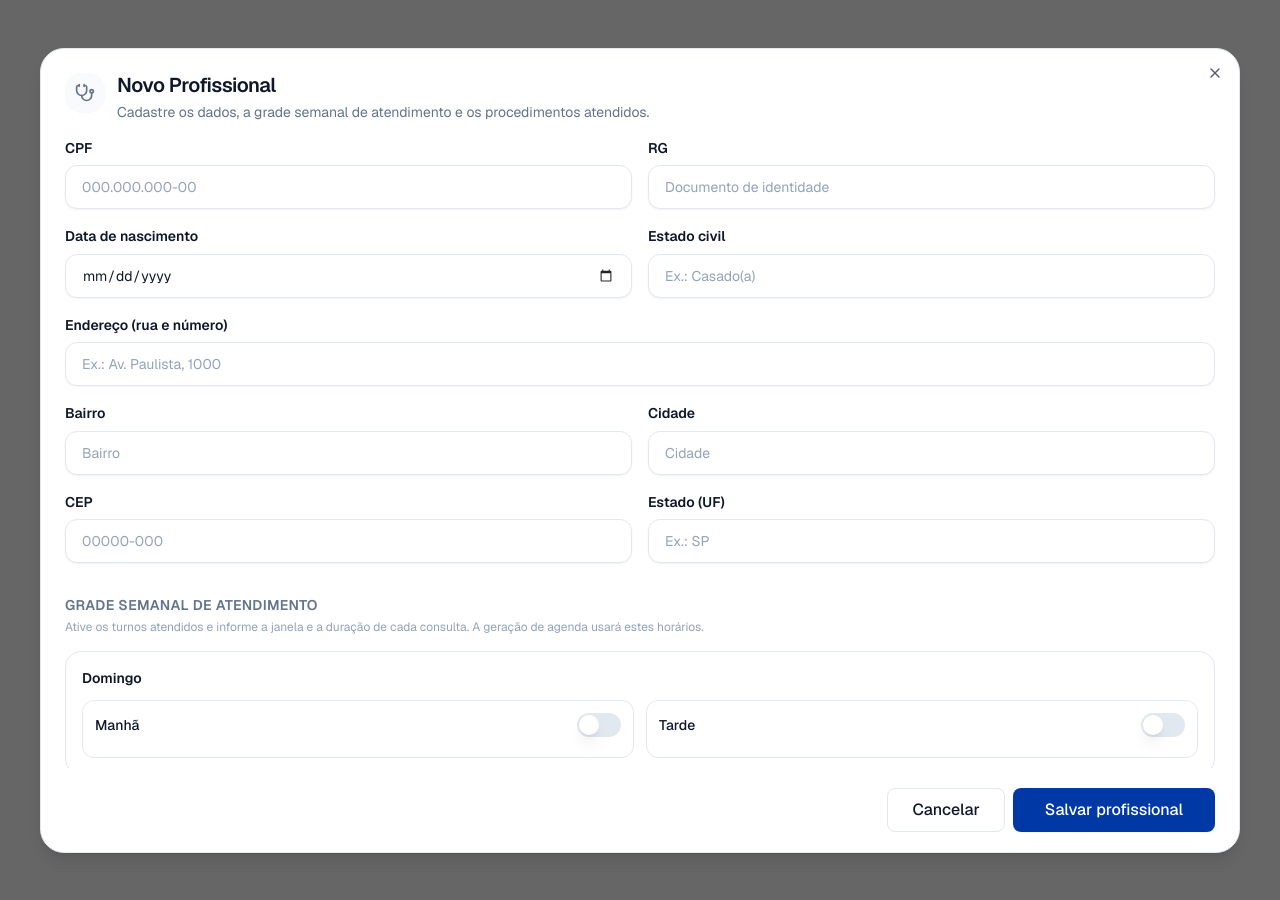
ProfissionalModal — CEP › não sobrescreve endereço que o usuário já digitou
(page scrolled)
Type "Bairro escolhido a mão" into the field with placeholder "Bairro" at (348,452), box [65, 430, 632, 474]
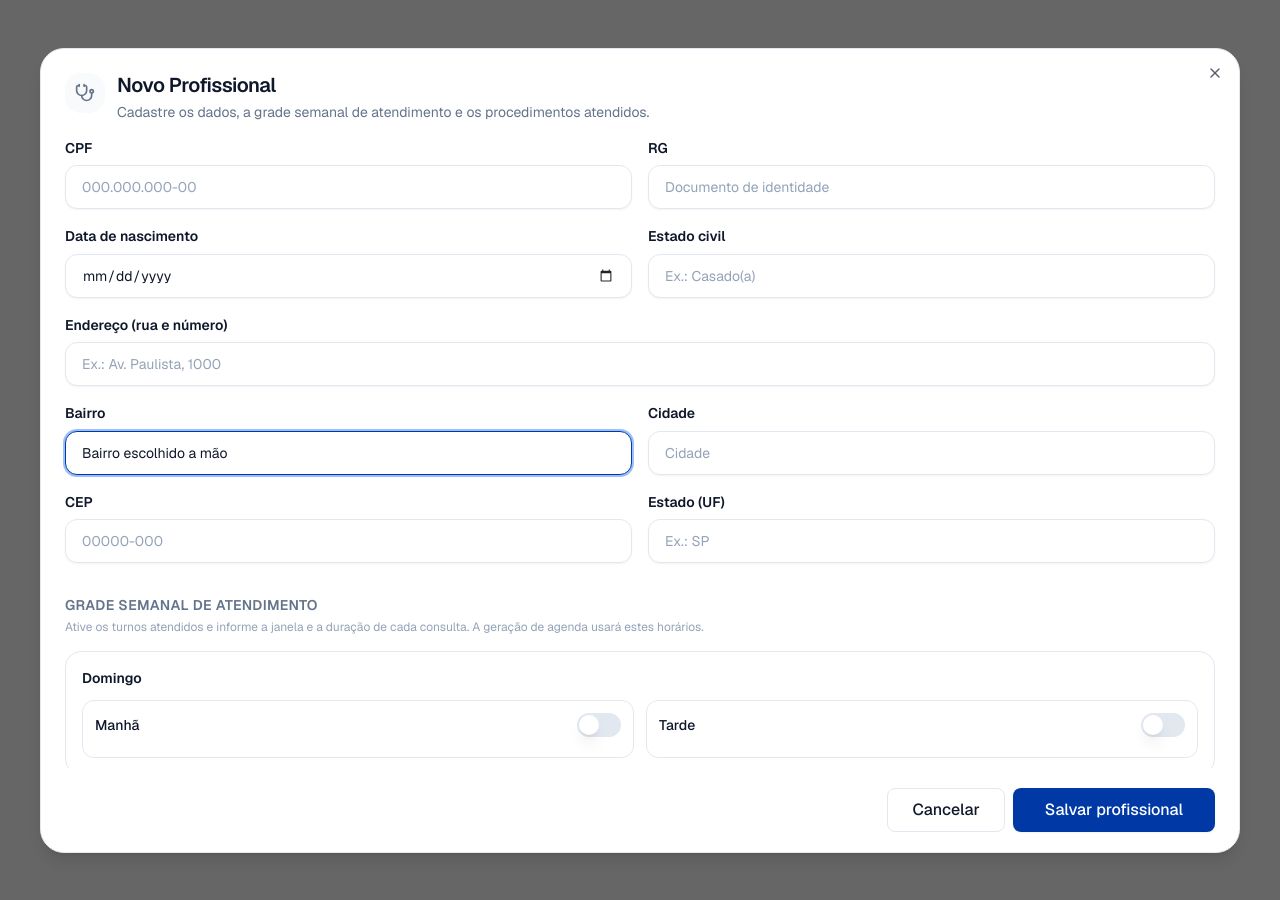
Type "01310100" into the field with placeholder "00000-000" at (348,541), box [65, 519, 632, 563]
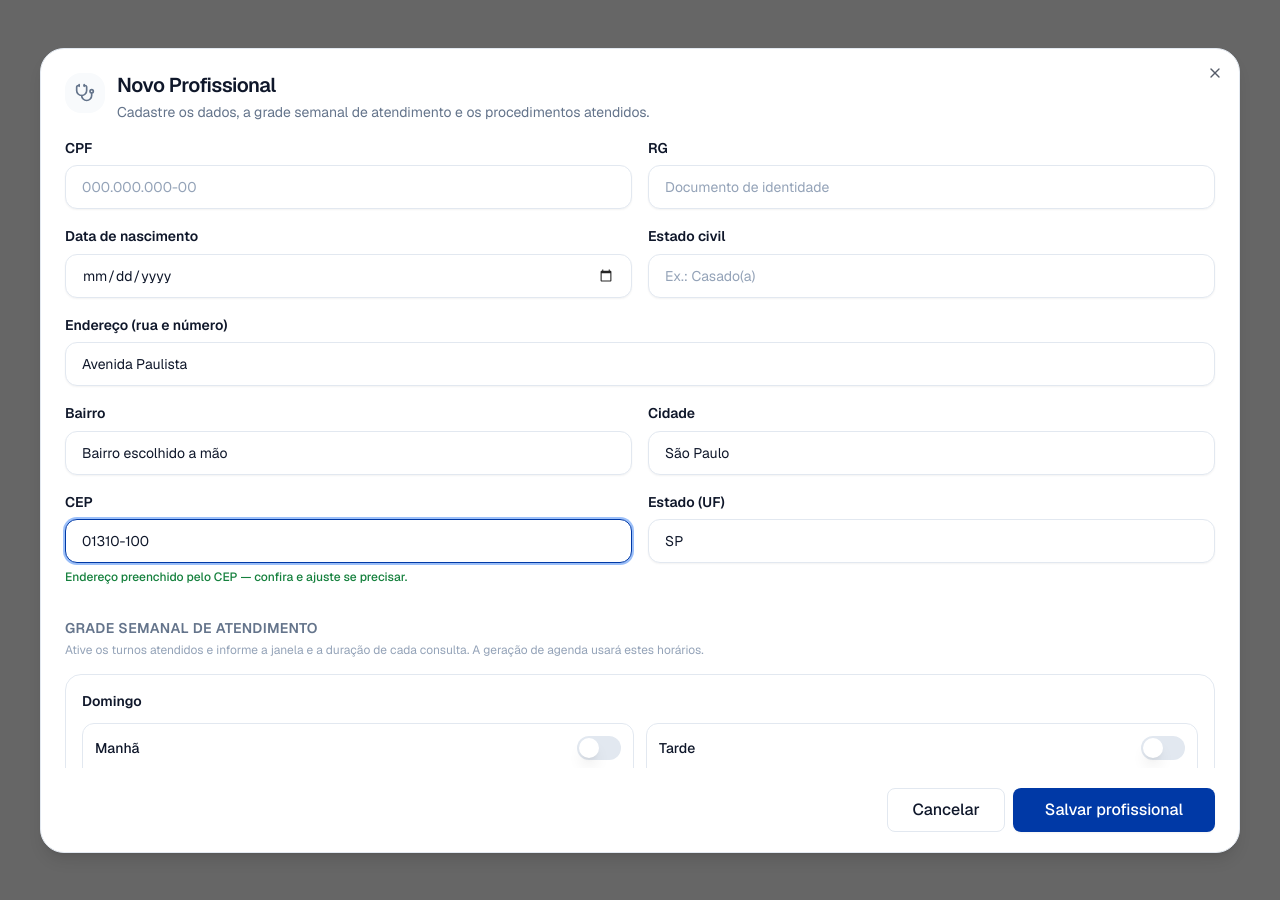
Check: the field with placeholder "Cidade" below "Cidade" holds "São Paulo", box [648, 430, 1215, 474]
